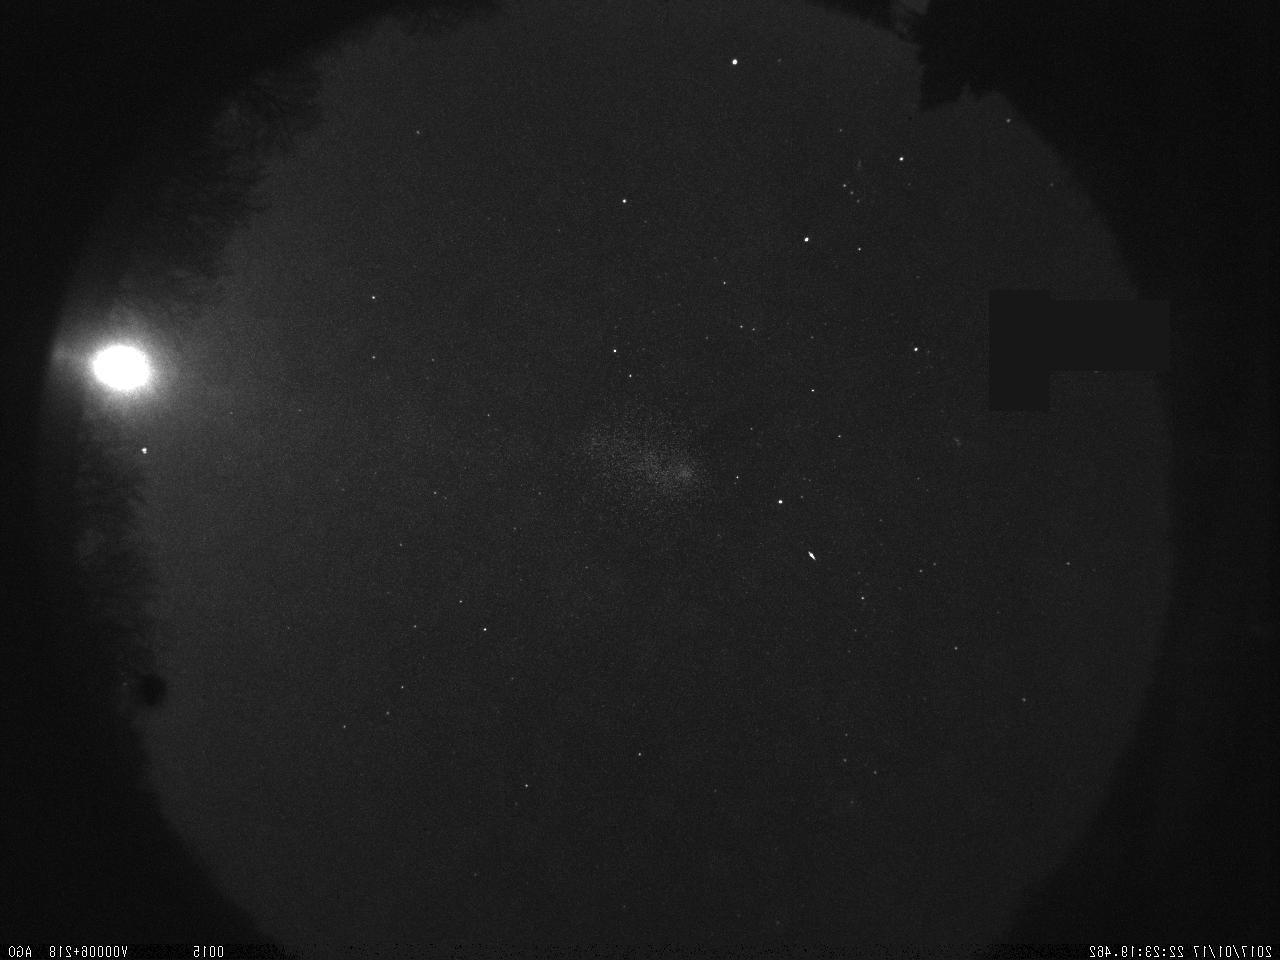meteor: (797, 168, 875, 222)
